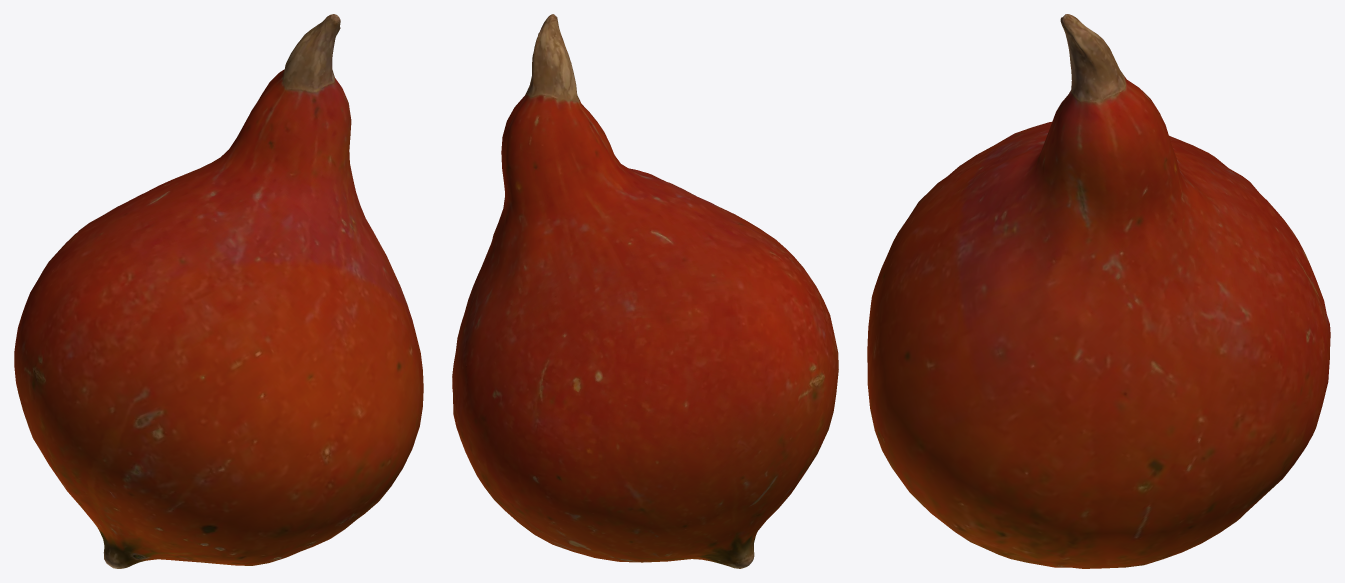
File: pumpkin-6.glb
The picture shows the model from 3 angles, left to right: view 1: azimuth 30°, elevation 25°; view 2: azimuth 150°, elevation 25°; view 3: azimuth 270°, elevation 25°; orthographic projection. The views are drawn at different scales.
Visible parts, largest first — view 1: Red Pumpkin; view 2: Red Pumpkin; view 3: Red Pumpkin.
Boxes of the visible parts, <box> form: Red Pumpkin: <box>14,14,423,568</box>; Red Pumpkin: <box>452,14,838,568</box>; Red Pumpkin: <box>867,14,1330,568</box>.
Size of the model in its own units: 0.2153 by 0.2998 by 0.2143.
Materials: 1 (1 with a texture image).
